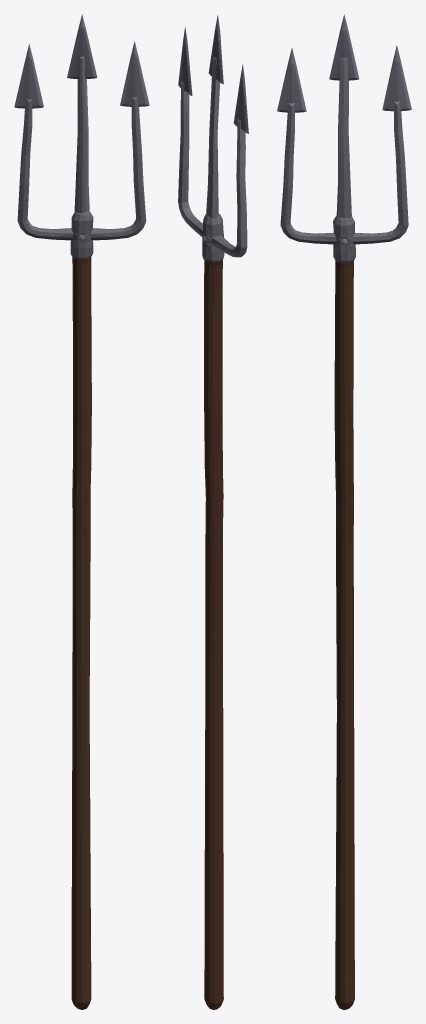
File: pokeHeavyRetiariusTrident.glb
The picture shows the model from 3 angles, left to right: view 1: azimuth 90°, elevation 25°; view 2: azimuth 210°, elevation 25°; view 3: azimuth 270°, elevation 25°; orthographic projection.
Parts seen in each view (by area): view 1: pokeHeavyRetiariusTrident; view 2: pokeHeavyRetiariusTrident; view 3: pokeHeavyRetiariusTrident.
Part boxes in pixels (x1,y1,x2,y2): pokeHeavyRetiariusTrident: [14, 14, 149, 1009]; pokeHeavyRetiariusTrident: [178, 15, 248, 1009]; pokeHeavyRetiariusTrident: [277, 14, 411, 1009].
Bounding box in the file's own units: 0.0432 × 2.04 × 0.2513.
